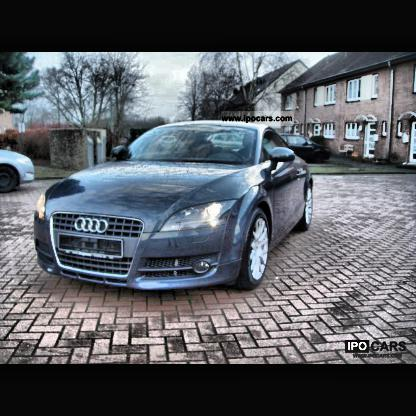Audi TTS Coupe 2012: (36, 120, 315, 299)
